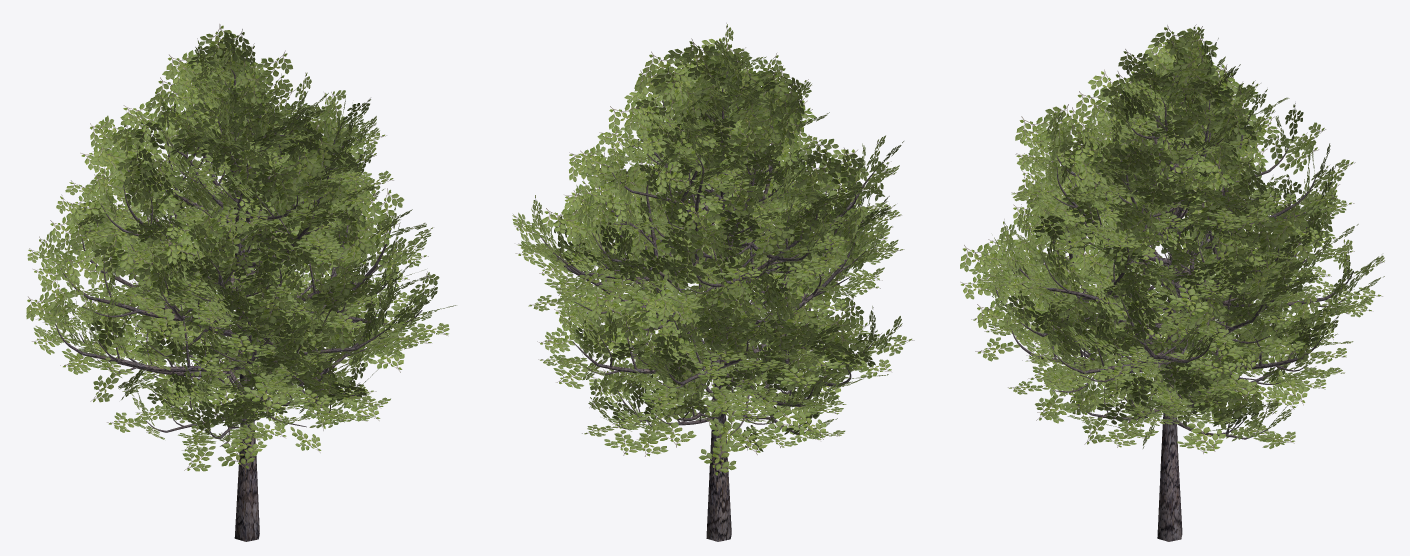
Rendered from tree02.obj.
3 renders of one model, left to right at view 1: azimuth 30°, elevation 25°; view 2: azimuth 150°, elevation 25°; view 3: azimuth 270°, elevation 25°, orthographic.
Visible parts, largest first — view 1: leaves, tree; view 2: leaves, tree; view 3: leaves, tree.
Boxes of the visible parts, left/top/right/bottom form: leaves: left=26, top=24, right=456, bottom=471; tree: left=55, top=69, right=422, bottom=541; leaves: left=512, top=23, right=914, bottom=476; tree: left=539, top=72, right=875, bottom=541; leaves: left=960, top=24, right=1384, bottom=453; tree: left=995, top=63, right=1353, bottom=541.
Bounding box in the file's own units: 1.89 × 2.49 × 1.97.
